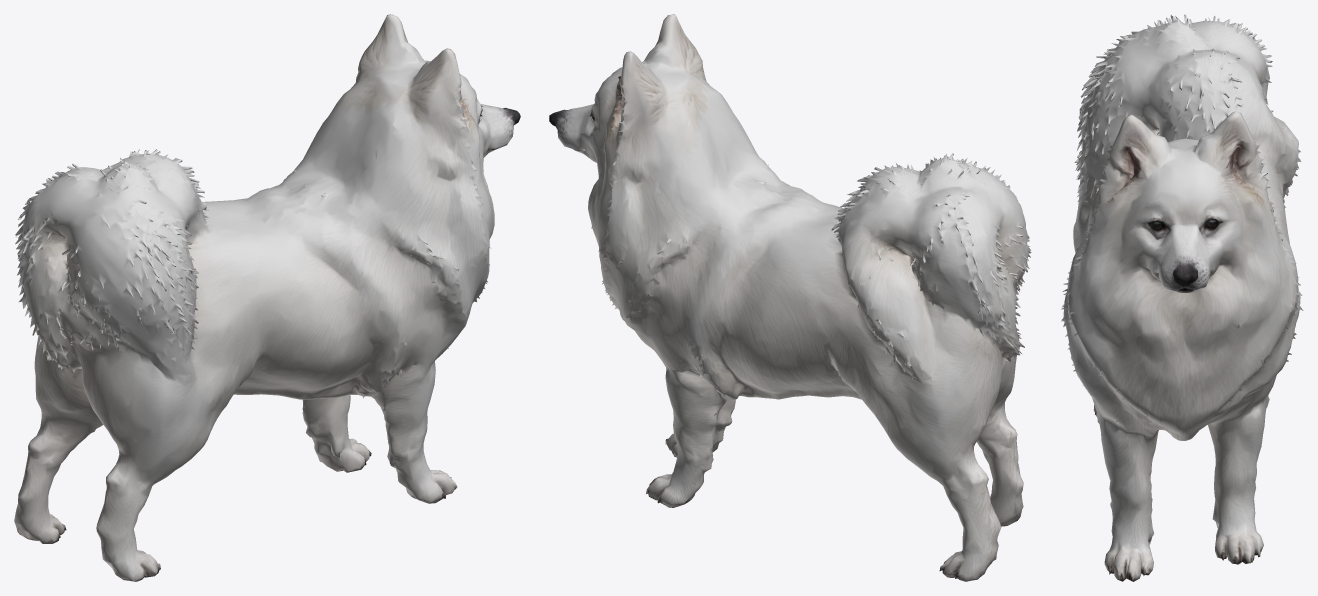
File: spitz.glb
3 renders of one model, left to right at view 1: azimuth 30°, elevation 25°; view 2: azimuth 150°, elevation 25°; view 3: azimuth 270°, elevation 25°, orthographic. The views are drawn at different scales.
Parts seen in each view (by area): view 1: tripo_node_281b40e6-d402-4bf1-a73c-16645e5b3f32; view 2: tripo_node_281b40e6-d402-4bf1-a73c-16645e5b3f32; view 3: tripo_node_281b40e6-d402-4bf1-a73c-16645e5b3f32.
Part boxes in pixels (x1=…): tripo_node_281b40e6-d402-4bf1-a73c-16645e5b3f32: x1=14, y1=14, x2=520, y2=581; tripo_node_281b40e6-d402-4bf1-a73c-16645e5b3f32: x1=549, y1=14, x2=1031, y2=581; tripo_node_281b40e6-d402-4bf1-a73c-16645e5b3f32: x1=1061, y1=14, x2=1303, y2=581.
Size of the model in its own units: 1 by 0.8757 by 0.4131.
Materials: 1 (1 with a texture image).
